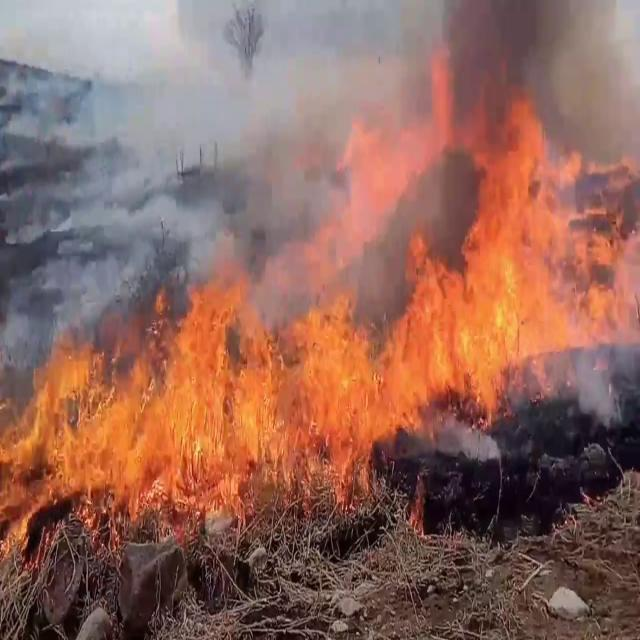Fire: (1, 270, 393, 525), (386, 59, 631, 446)
Smoke: (6, 1, 457, 303)
